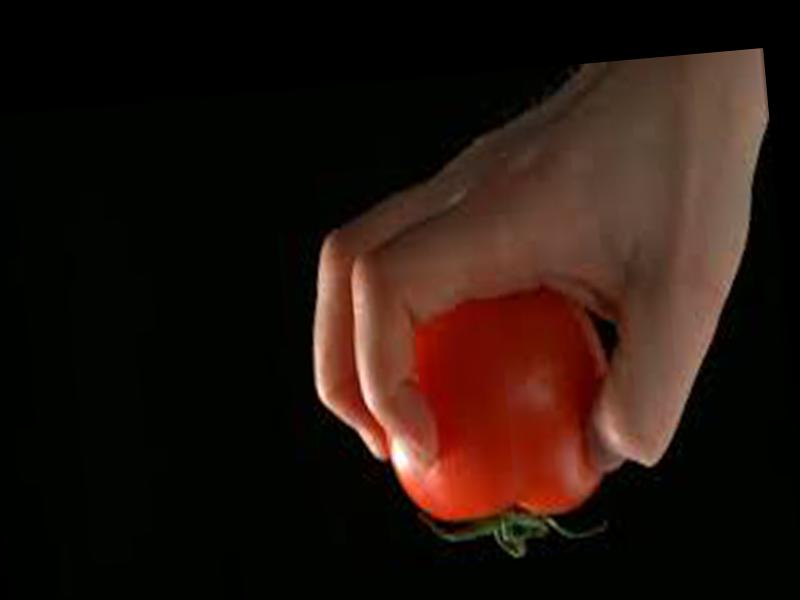Tomato: (378, 291, 622, 563)
